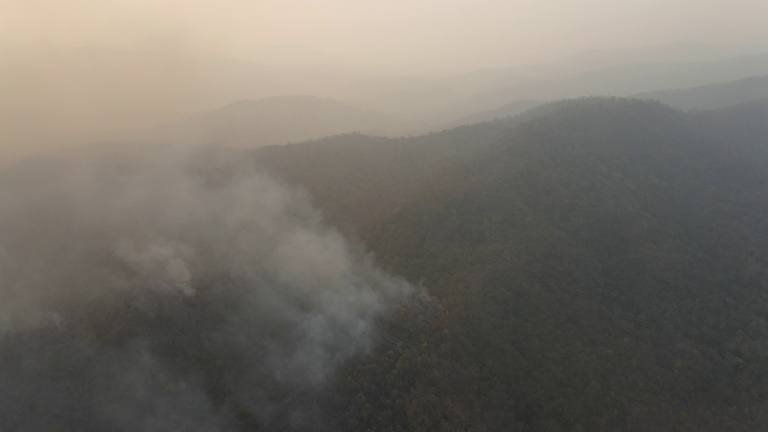smoke: (1, 136, 438, 430), (3, 1, 768, 132)
